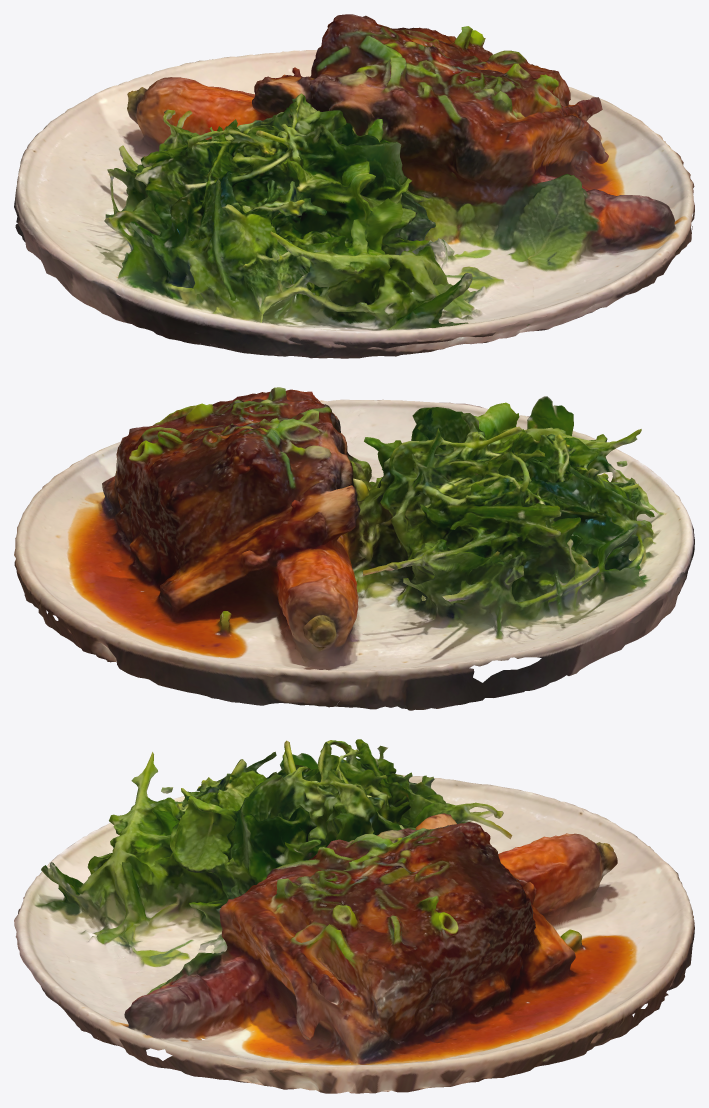
The model's file is Ribs from Joia 3D Model.glb.
The picture shows the model from 3 angles, top to bottom: view 1: azimuth 30°, elevation 25°; view 2: azimuth 150°, elevation 25°; view 3: azimuth 270°, elevation 25°; orthographic projection.
Visible parts, largest first — view 1: Object_4; view 2: Object_4; view 3: Object_4.
Part boxes in pixels (box(x1,y1,x2,y2)): Object_4: box(14, 14, 694, 358); Object_4: box(14, 387, 694, 710); Object_4: box(14, 739, 694, 1093).
Bounding box in the file's own units: 0.265 × 0.0655 × 0.2642.
1 material, 1 textured.
